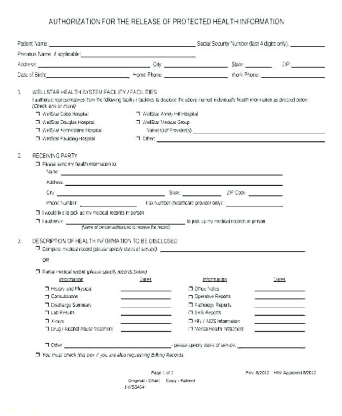checkbox: (183, 308, 194, 317), (32, 135, 42, 144), (132, 132, 141, 142), (32, 206, 41, 216), (41, 339, 50, 349), (31, 245, 42, 253), (42, 324, 50, 334), (133, 119, 142, 127), (34, 161, 43, 169), (34, 267, 42, 276), (41, 293, 50, 301), (186, 293, 194, 302), (186, 300, 194, 309), (186, 325, 195, 333), (32, 218, 42, 225), (185, 318, 195, 325), (33, 126, 41, 134), (43, 317, 51, 325), (34, 351, 41, 360), (135, 107, 141, 117), (43, 301, 51, 308), (43, 308, 50, 316), (44, 284, 50, 293), (34, 110, 41, 117), (33, 119, 41, 125), (188, 285, 194, 293)
textline: (60, 167, 286, 179), (64, 177, 285, 187), (157, 133, 329, 145), (159, 244, 309, 255), (49, 37, 197, 48), (192, 123, 327, 135), (37, 58, 152, 71), (56, 186, 168, 198), (80, 49, 198, 60), (64, 216, 187, 226), (62, 339, 173, 350), (237, 337, 308, 351), (260, 69, 330, 82), (45, 70, 131, 80), (162, 58, 230, 70), (225, 198, 285, 211), (76, 198, 140, 209), (162, 70, 230, 80), (119, 326, 176, 336), (118, 283, 174, 293), (253, 317, 308, 327), (118, 293, 175, 302), (289, 37, 331, 49), (253, 310, 309, 319), (119, 309, 174, 318), (119, 319, 174, 328), (253, 285, 308, 294), (254, 302, 308, 311), (182, 187, 225, 198), (246, 188, 287, 199), (119, 302, 175, 310), (253, 326, 308, 334), (242, 58, 275, 70), (253, 295, 309, 302), (290, 58, 328, 68)
